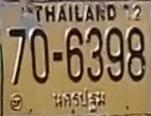0: (30, 28, 49, 83)
3: (86, 27, 103, 82)
6: (66, 27, 84, 82)
7: (8, 28, 27, 84)
8: (127, 26, 145, 82)
9: (106, 27, 124, 81)
NPT: (51, 87, 108, 114)
